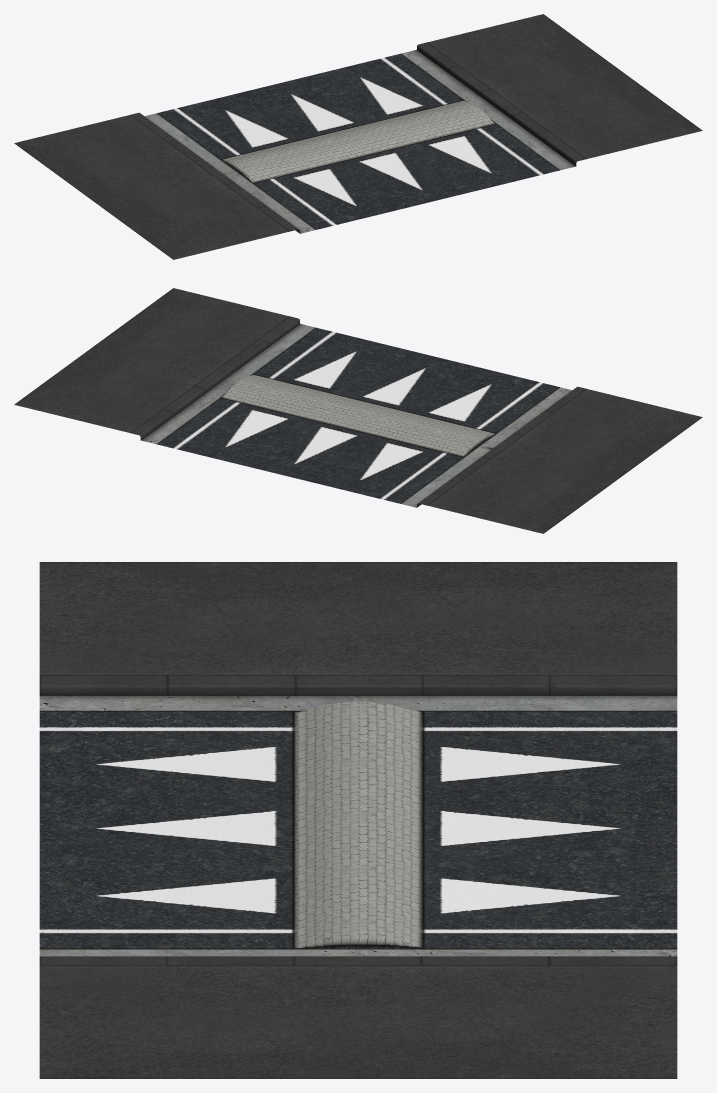
Rendered from city_bump2.fbx.
3 renders of one model, top to bottom at view 1: azimuth 30°, elevation 25°; view 2: azimuth 150°, elevation 25°; view 3: azimuth 270°, elevation 25°, orthographic. The views are drawn at different scales.
Visible parts, largest first — view 1: obj0; view 2: obj0; view 3: obj0.
Boxes of the visible parts, x1,y1,x2,y2 form: obj0: (14,14,702,259); obj0: (14,288,702,533); obj0: (39,562,677,1078).
Size of the model in its own units: 29.21 by 0.2921 by 15.24.
